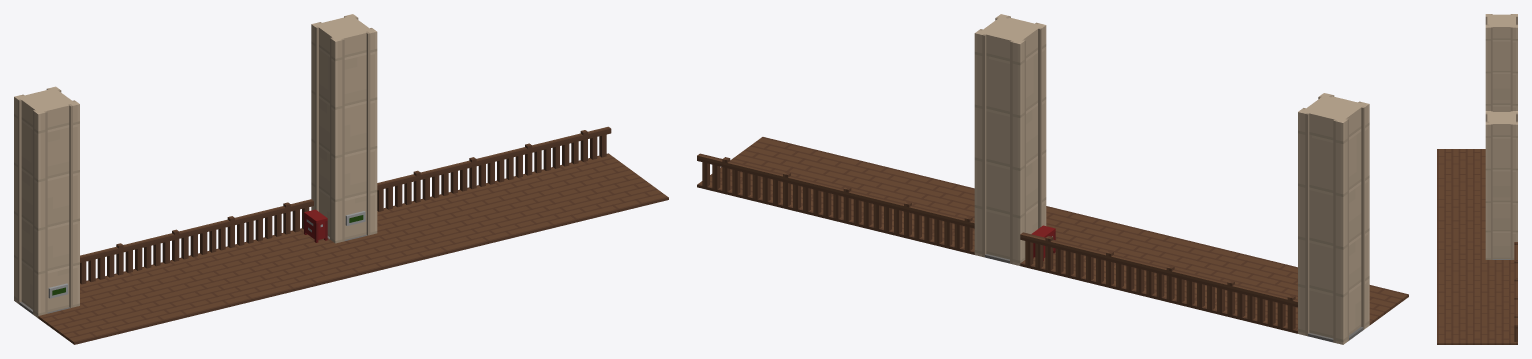
The model's file is Scene_Terrain_GuildHigh.obj.
The picture shows the model from 3 angles, left to right: view 1: azimuth 30°, elevation 25°; view 2: azimuth 150°, elevation 25°; view 3: azimuth 270°, elevation 25°; orthographic projection. The views are drawn at different scales.
Size of the model in its own units: 25.6 by 8.4 by 4.5.
1 material, 1 textured.
